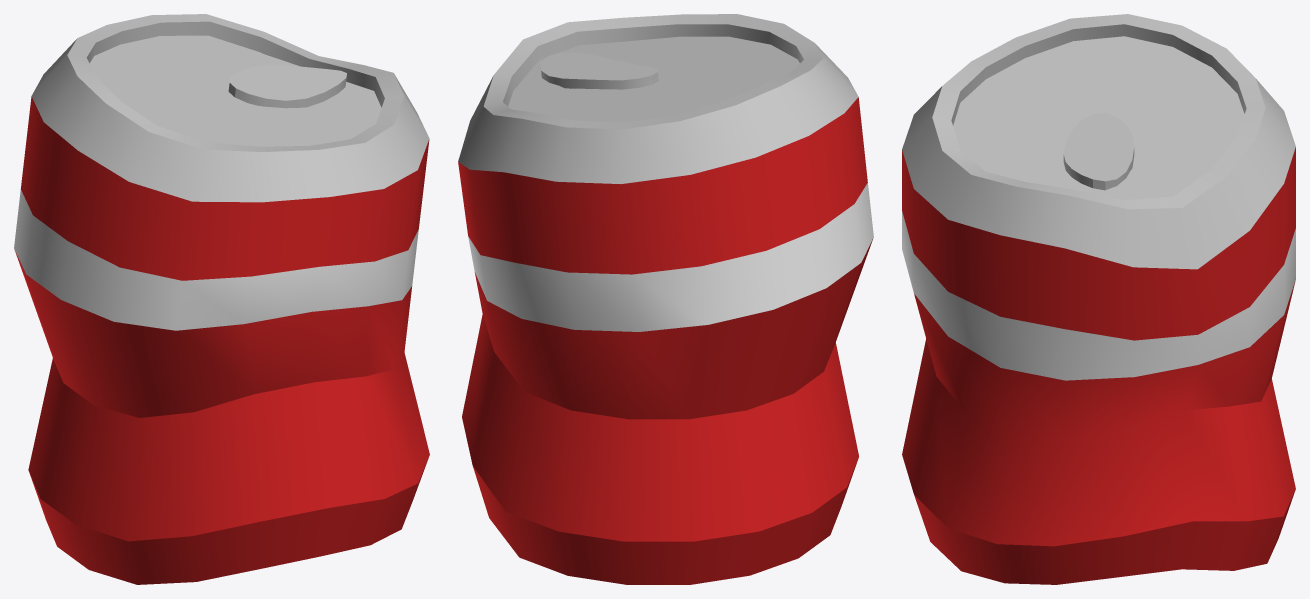
File: colaKutu.fbx
The picture shows the model from 3 angles, left to right: view 1: azimuth 30°, elevation 25°; view 2: azimuth 150°, elevation 25°; view 3: azimuth 270°, elevation 25°; orthographic projection.
Visible parts, largest first — view 1: colaKutu; view 2: colaKutu; view 3: colaKutu.
Part boxes in pixels (x1=…): colaKutu: x1=14, y1=14, x2=429, y2=584; colaKutu: x1=458, y1=14, x2=873, y2=584; colaKutu: x1=902, y1=14, x2=1295, y2=584.
Size of the model in its own units: 10.91 by 13.66 by 10.62.
